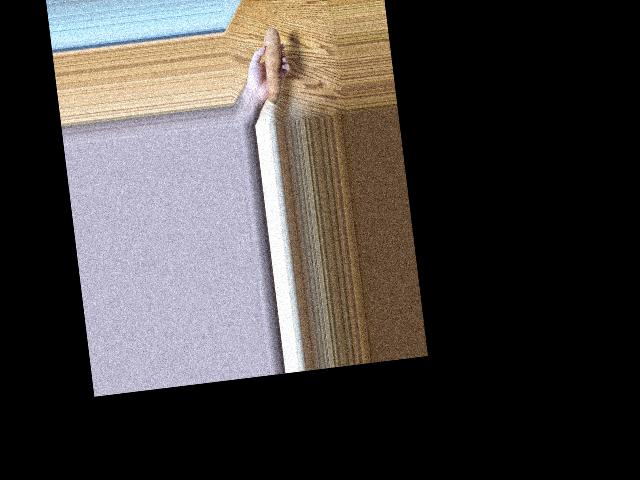sweet_potato: (260, 23, 292, 103)
